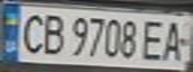0: (103, 16, 124, 60)
7: (84, 14, 106, 57)
8: (118, 17, 142, 60)
9: (66, 12, 90, 57)
A: (157, 18, 190, 63)
B: (36, 10, 69, 56)
C: (15, 10, 48, 55)
E: (139, 17, 172, 62)
